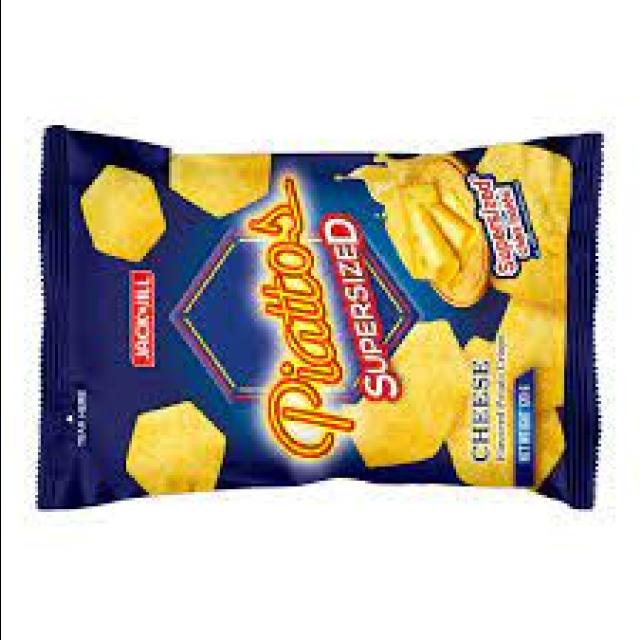junkfood wrapper: (39, 129, 599, 508)
